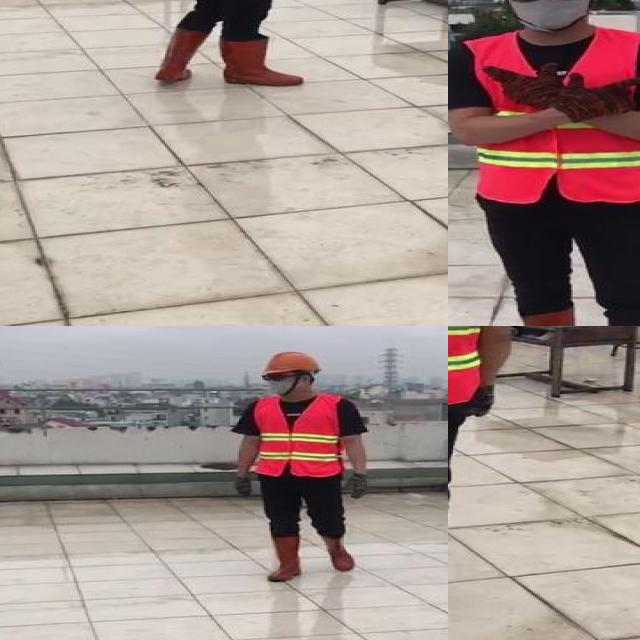boots: (213, 37, 302, 86), (154, 29, 208, 83), (267, 537, 305, 580), (321, 535, 363, 573)
face_mask: (499, 0, 593, 29), (264, 370, 303, 395)
glasses: (257, 371, 292, 384)
hand_glove: (486, 63, 569, 107), (567, 74, 640, 120), (467, 386, 503, 417), (346, 473, 367, 497), (232, 474, 251, 493)
head_helmet: (257, 348, 328, 379)
person: (448, 0, 640, 326), (231, 346, 373, 584), (448, 326, 519, 617), (136, 0, 319, 89)
vest: (462, 30, 640, 205), (255, 395, 347, 478)
